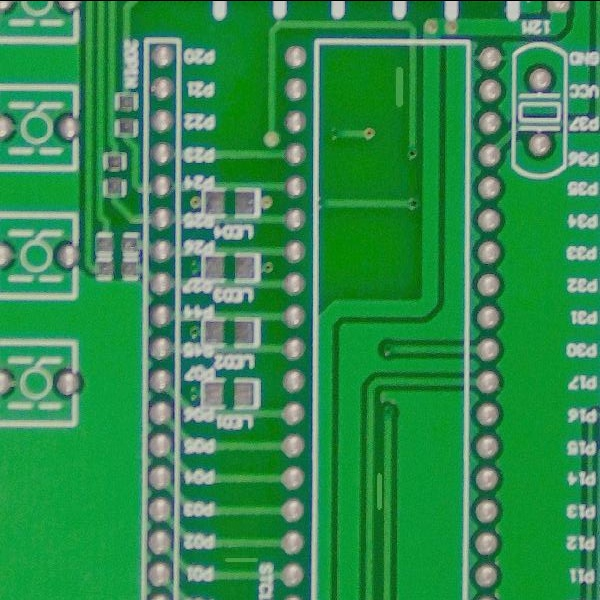spurious_copper: (389, 56, 411, 115), (369, 467, 392, 515), (214, 549, 265, 570)
